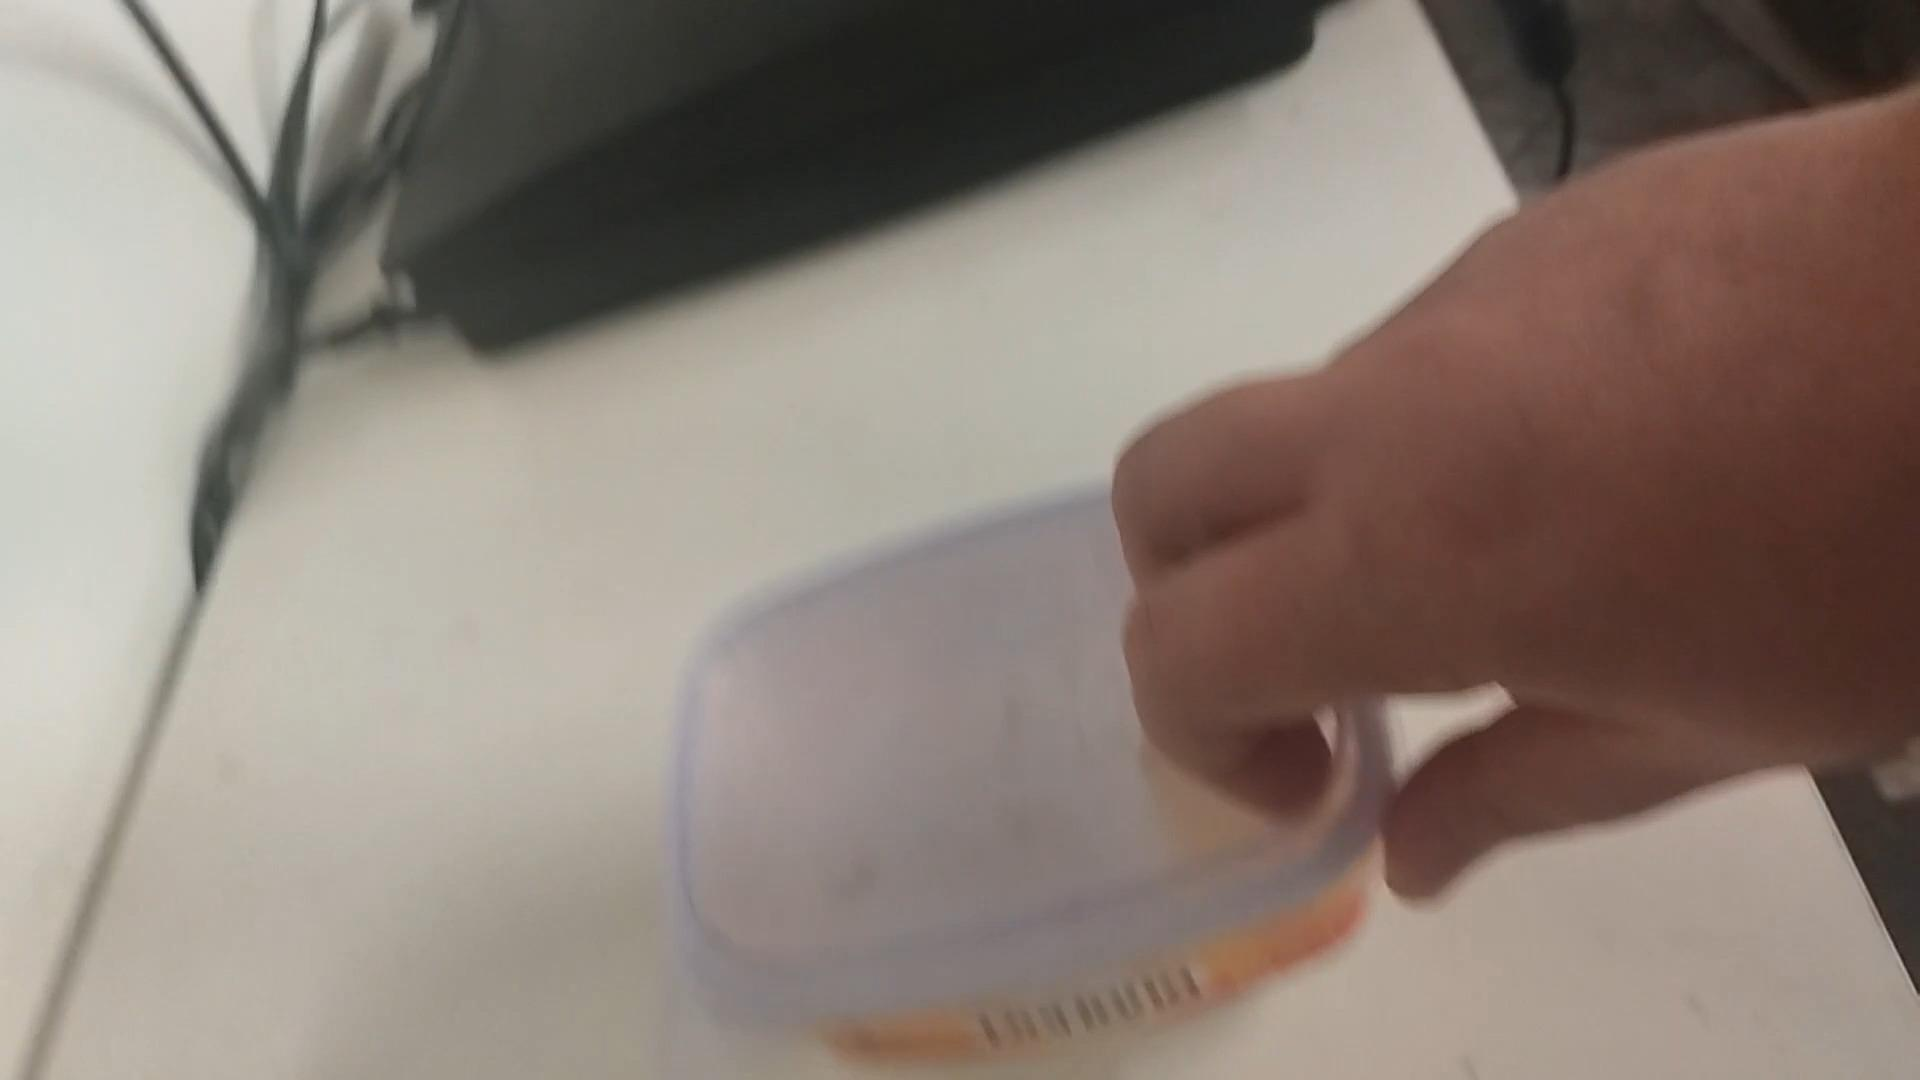butter: (662, 481, 1400, 1071)
